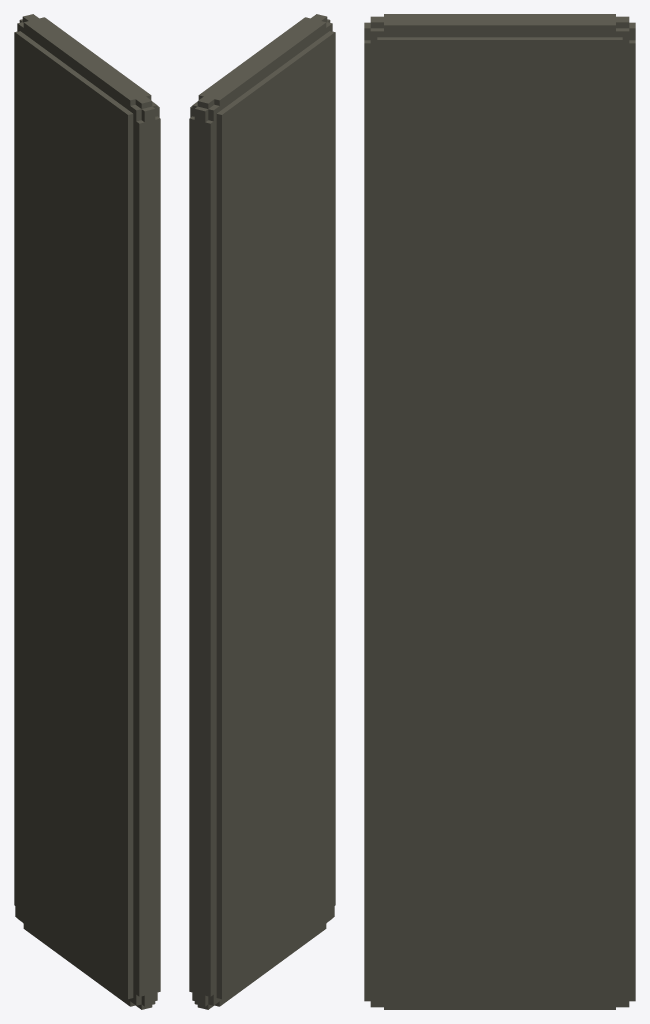
Rendered from factory4.5-10.obj.
3 renders of one model, left to right at view 1: azimuth 30°, elevation 25°; view 2: azimuth 150°, elevation 25°; view 3: azimuth 270°, elevation 25°, orthographic. The views are drawn at different scales.
Bounding box in the file's own units: 0.6 × 16.4 × 4.1.
1 material, 1 textured.
